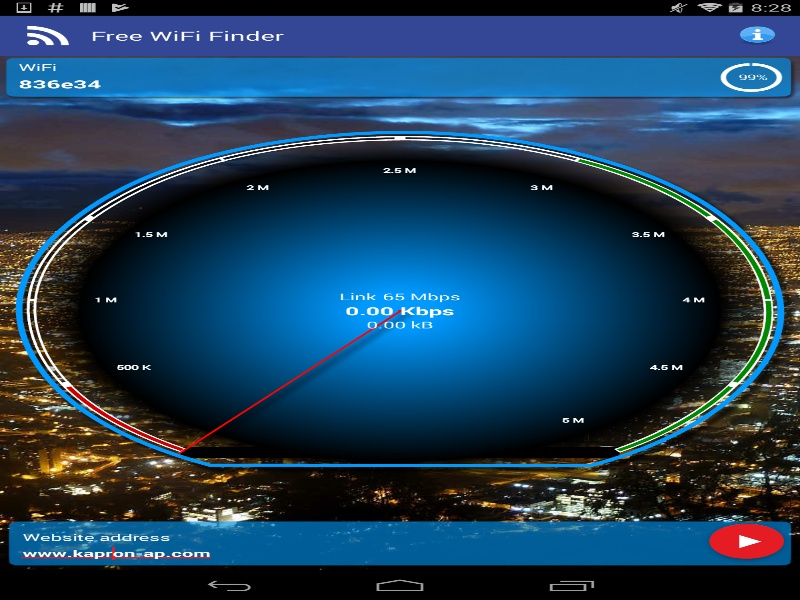Button: (693, 512, 800, 570), (10, 15, 85, 55)
Input: (16, 543, 216, 562)
